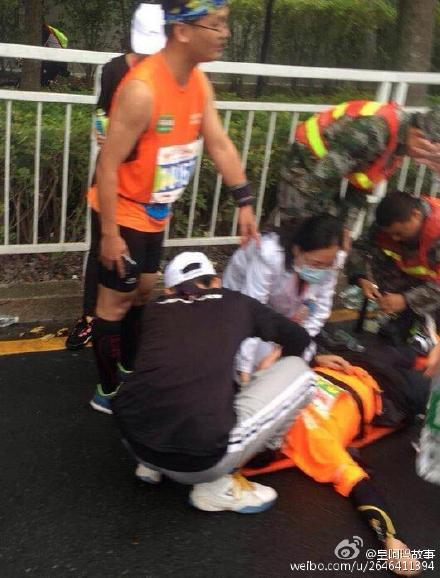fall: (240, 303, 432, 578)
